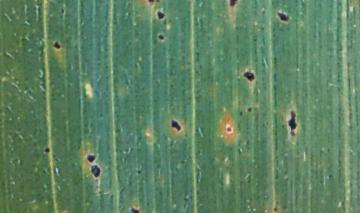tarspot: (287, 111, 298, 137), (276, 11, 290, 24), (242, 71, 256, 83), (171, 119, 182, 131), (156, 9, 165, 21), (86, 154, 97, 163), (91, 165, 99, 177), (53, 41, 62, 50), (130, 207, 142, 213), (237, 108, 244, 118), (137, 168, 142, 177), (158, 34, 165, 40), (230, 1, 237, 7), (226, 127, 232, 133), (44, 148, 50, 153), (247, 107, 253, 112), (273, 207, 277, 213), (149, 1, 154, 4), (156, 1, 162, 3)
